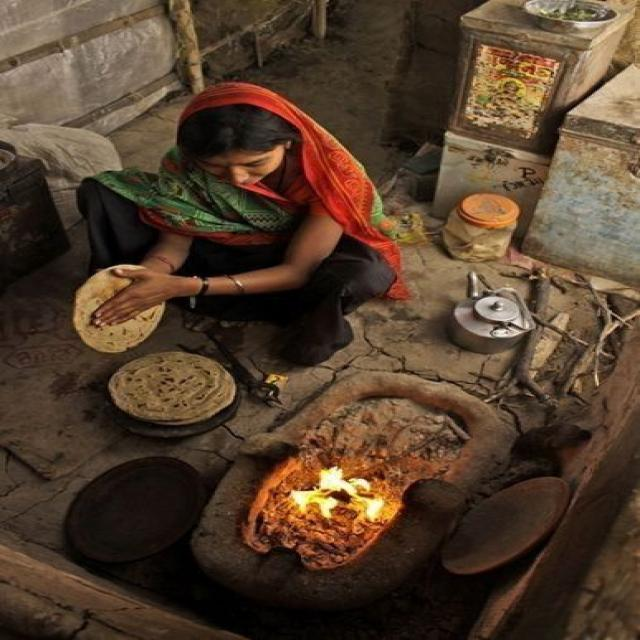fire: (289, 466, 383, 522)
